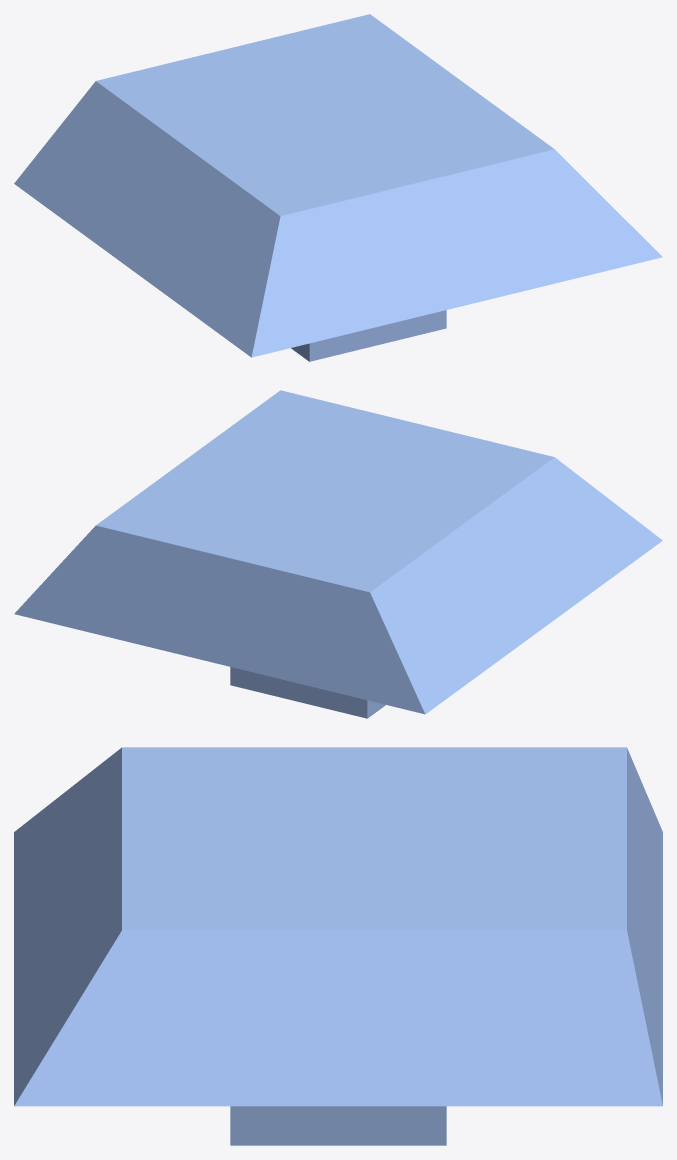
Rendered from original-17.obj.
3 views of the same model, one above another, from view 1: azimuth 30°, elevation 25°; view 2: azimuth 150°, elevation 25°; view 3: azimuth 270°, elevation 25° (orthographic). The views are drawn at different scales.
Visible parts, largest first — view 1: KB_-_Key_1_14/KB_-_Key_1/mesh2/mesh2-geometry#mesh2-geometry; view 2: KB_-_Key_1_14/KB_-_Key_1/mesh2/mesh2-geometry#mesh2-geometry; view 3: KB_-_Key_1_14/KB_-_Key_1/mesh2/mesh2-geometry#mesh2-geometry.
Boxes of the visible parts, left/top/right/bottom form: KB_-_Key_1_14/KB_-_Key_1/mesh2/mesh2-geometry#mesh2-geometry: left=14, top=14, right=662, bottom=361; KB_-_Key_1_14/KB_-_Key_1/mesh2/mesh2-geometry#mesh2-geometry: left=14, top=390, right=662, bottom=718; KB_-_Key_1_14/KB_-_Key_1/mesh2/mesh2-geometry#mesh2-geometry: left=14, top=747, right=662, bottom=1145.
Bounding box in the file's own units: 0.0727 × 0.0323 × 0.0727.
